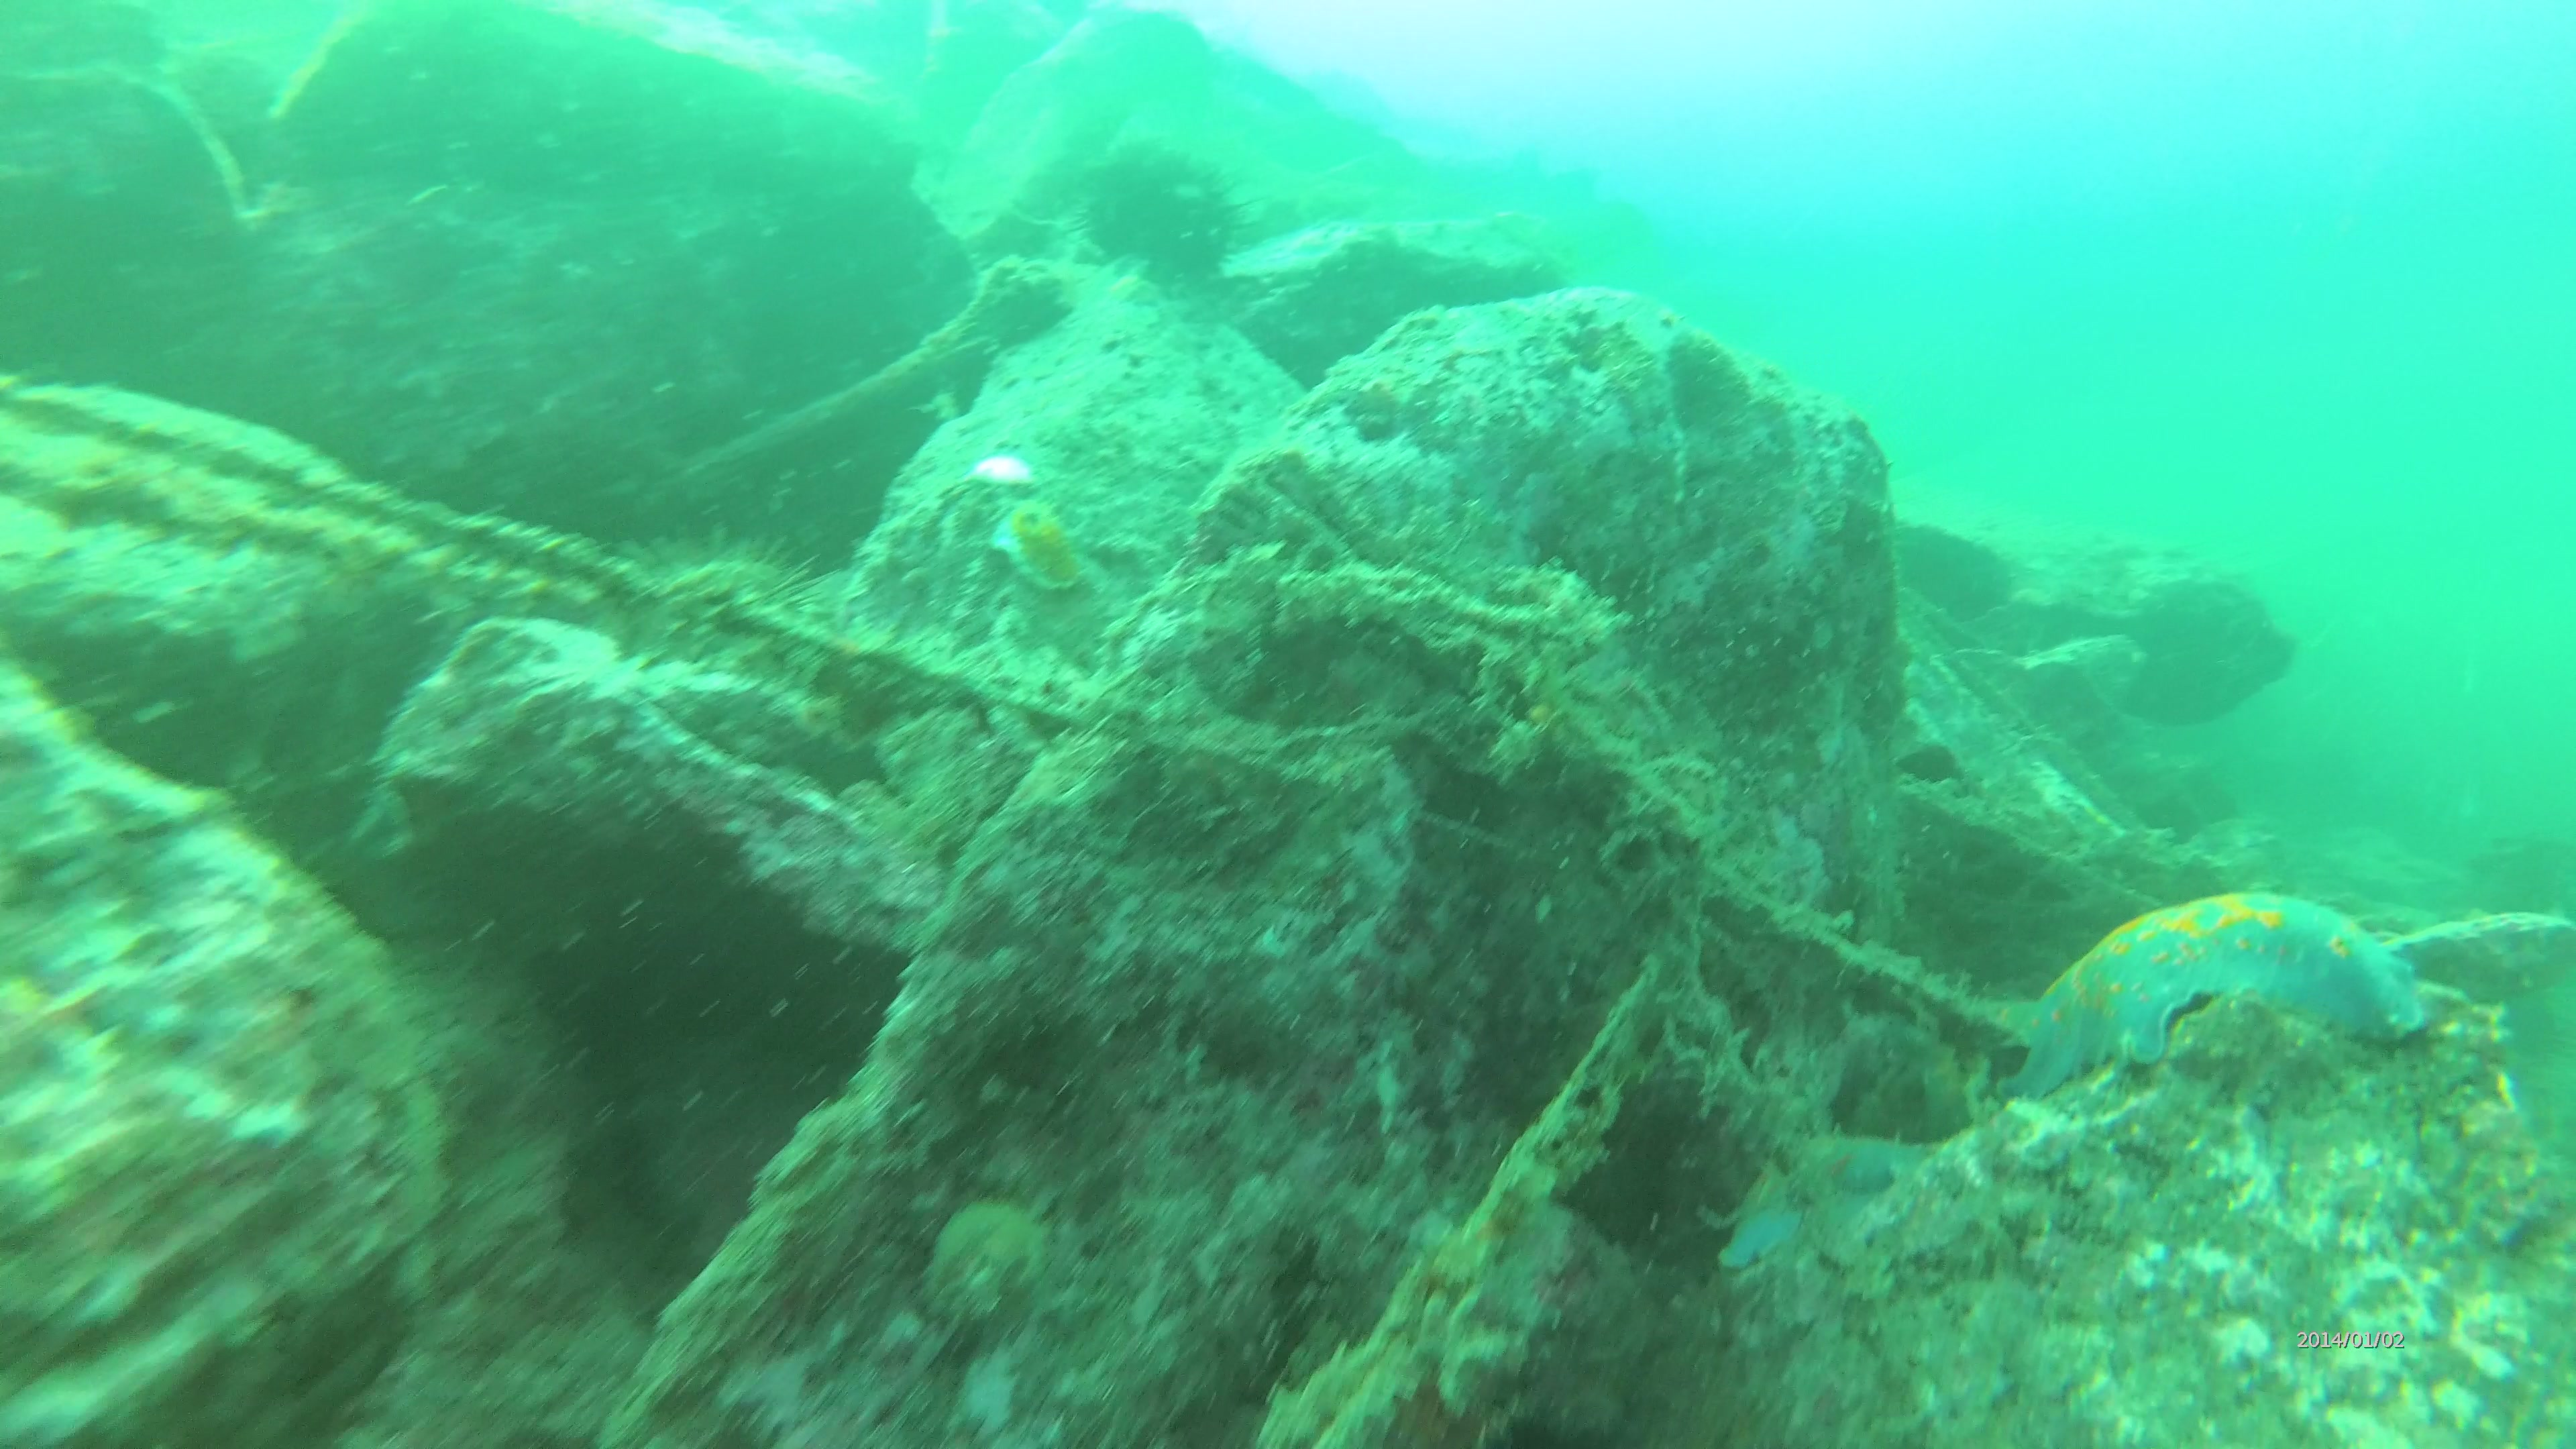echinus: (1069, 147, 1246, 271), (635, 536, 835, 635)
starfish: (2008, 867, 2442, 1088), (1711, 1111, 1962, 1269)
